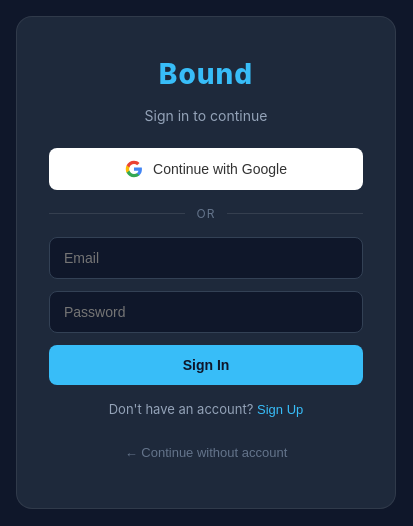
LoginPage › Sign Up toggle › should toggle back to sign in mode
The width and height of the screenshot is (413, 526).
What coordinates should you click on to do the following:
click the button "Sign Up"
I would click on:
 (280, 409)
Its box is x1=257 y1=402 x2=303 y2=416.
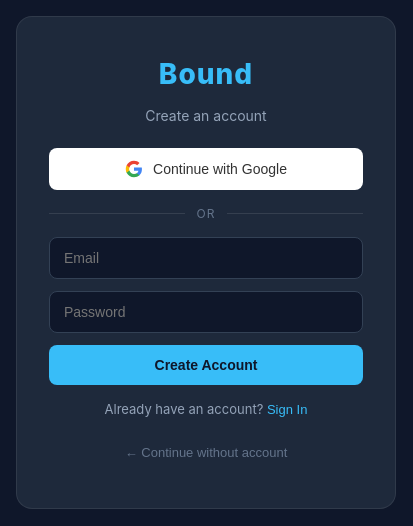
What coordinates should you click on to do the following:
click the button "Sign In"
I would click on:
 (287, 409)
Its box is x1=267 y1=402 x2=308 y2=416.
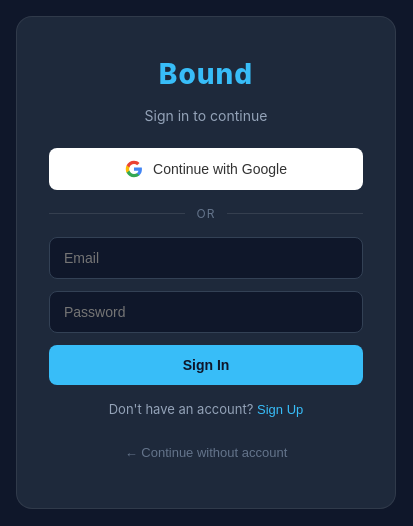
Result: the text "Sign in to continue" is shown at x1=144 y1=106 x2=267 y2=124
